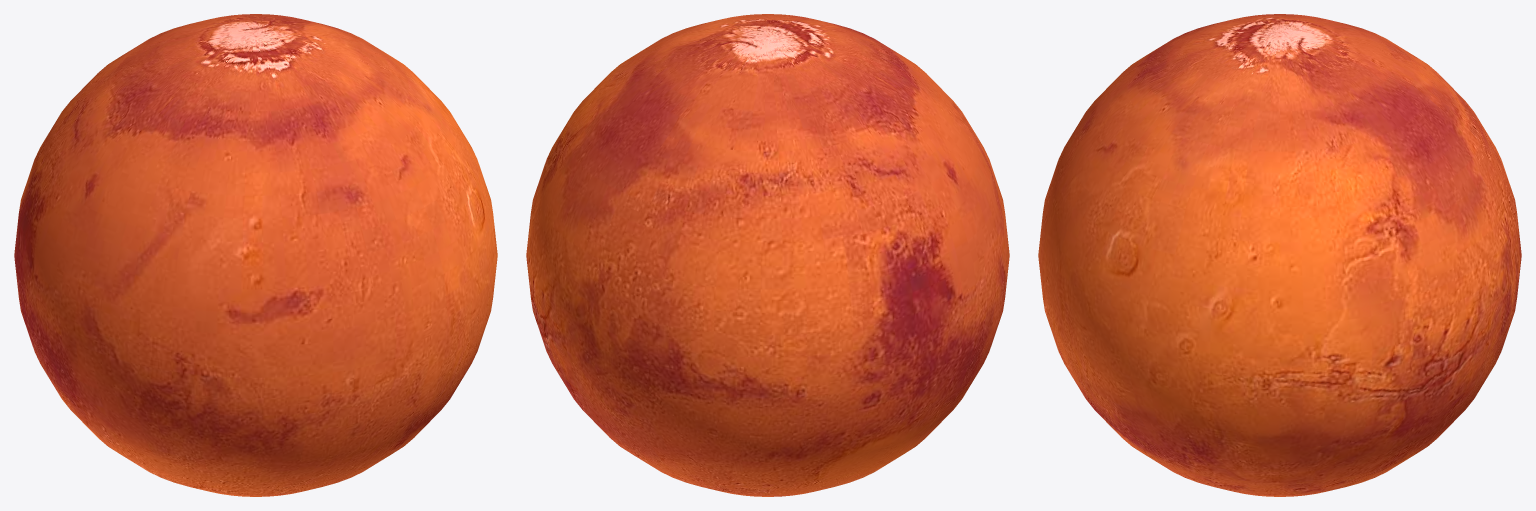
File: mars.glb
The picture shows the model from 3 angles, left to right: view 1: azimuth 30°, elevation 25°; view 2: azimuth 150°, elevation 25°; view 3: azimuth 270°, elevation 25°; orthographic projection.
Visible parts, largest first — view 1: Mars; view 2: Mars; view 3: Mars.
Boxes of the visible parts, left/top/right/bottom form: Mars: left=14, top=14, right=497, bottom=496; Mars: left=526, top=14, right=1009, bottom=496; Mars: left=1038, top=14, right=1521, bottom=496.
Bounding box in the file's own units: 33 × 33 × 33.
Materials: 1 (1 with a texture image).
